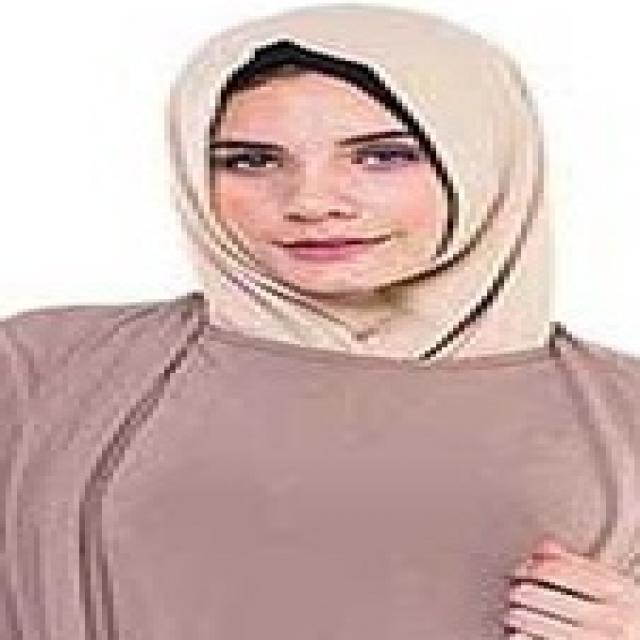head: (149, 7, 565, 303)
